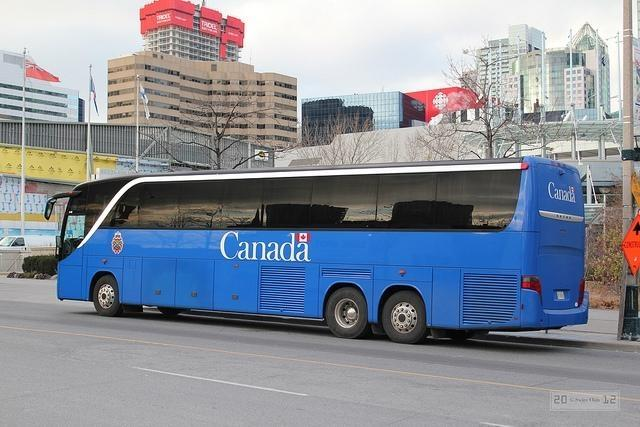bus: (43, 153, 592, 344)
car: (0, 234, 54, 248)
